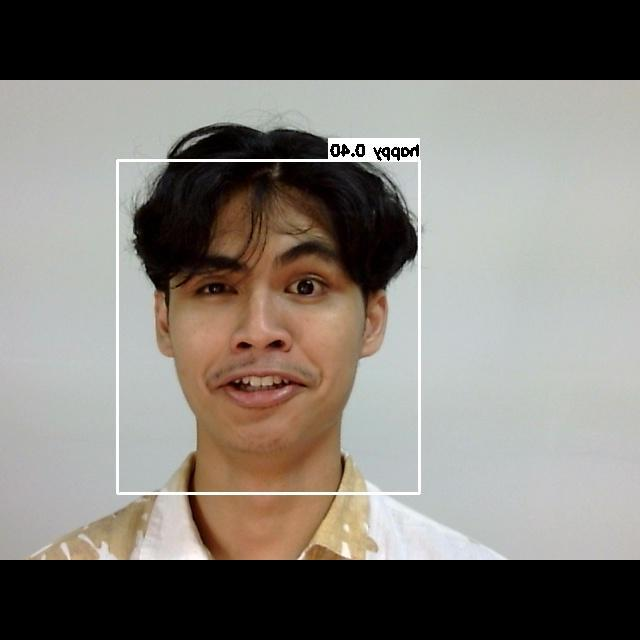Fear: (146, 215, 368, 440)
